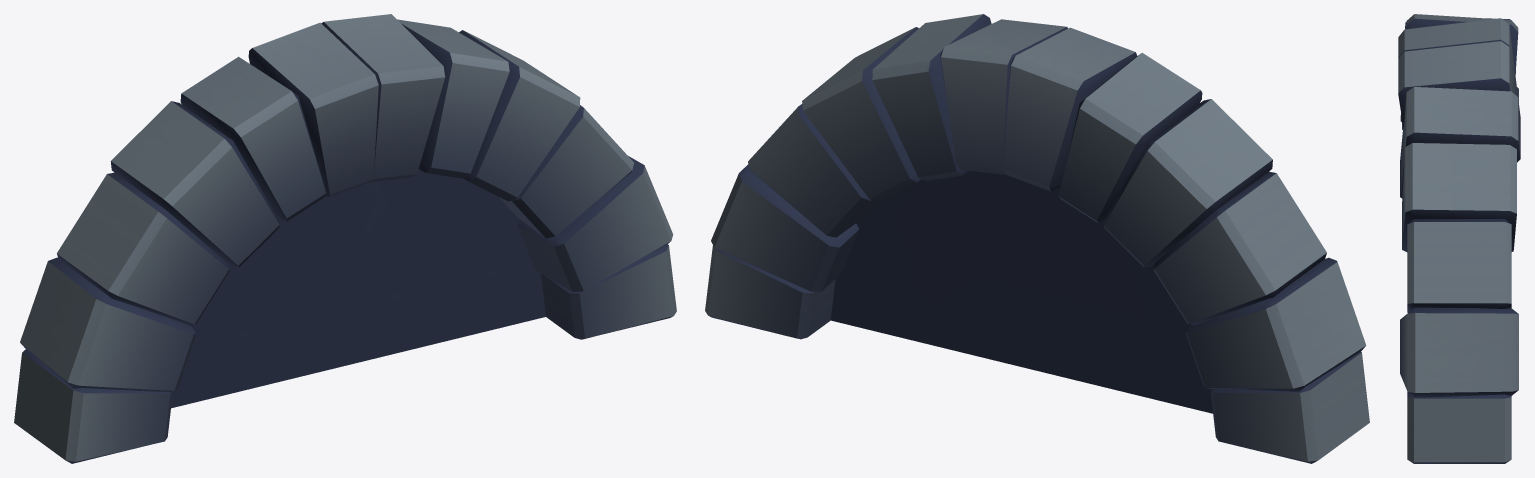
Rendered from Polygon.2.fbx.
3 renders of one model, left to right at view 1: azimuth 30°, elevation 25°; view 2: azimuth 150°, elevation 25°; view 3: azimuth 270°, elevation 25°, orthographic. The views are drawn at different scales.
Parts seen in each view (by area): view 1: Polygon_2; view 2: Polygon_2; view 3: Polygon_2.
Part boxes in pixels (box(x1,y1,x2,y2)): Polygon_2: box(14, 14, 676, 463); Polygon_2: box(705, 14, 1369, 463); Polygon_2: box(1398, 14, 1520, 463).
Bounding box in the file's own units: 34.05 × 17.71 × 6.68.
